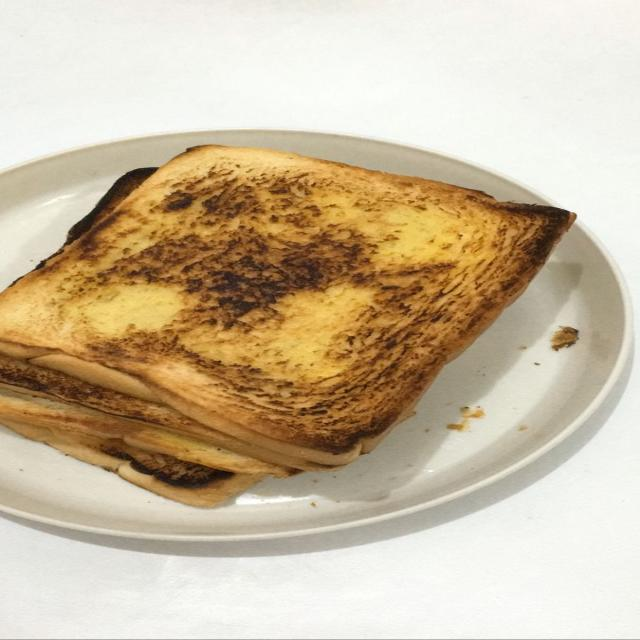toast bread: (0, 146, 573, 465)
